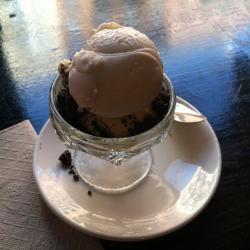icecream: (63, 22, 170, 114)
